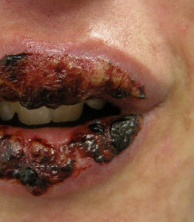SJS-TEN: (0, 109, 152, 202), (0, 46, 146, 112)
